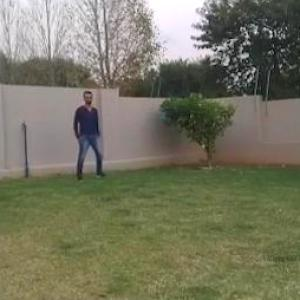follow: (74, 83, 100, 183)
